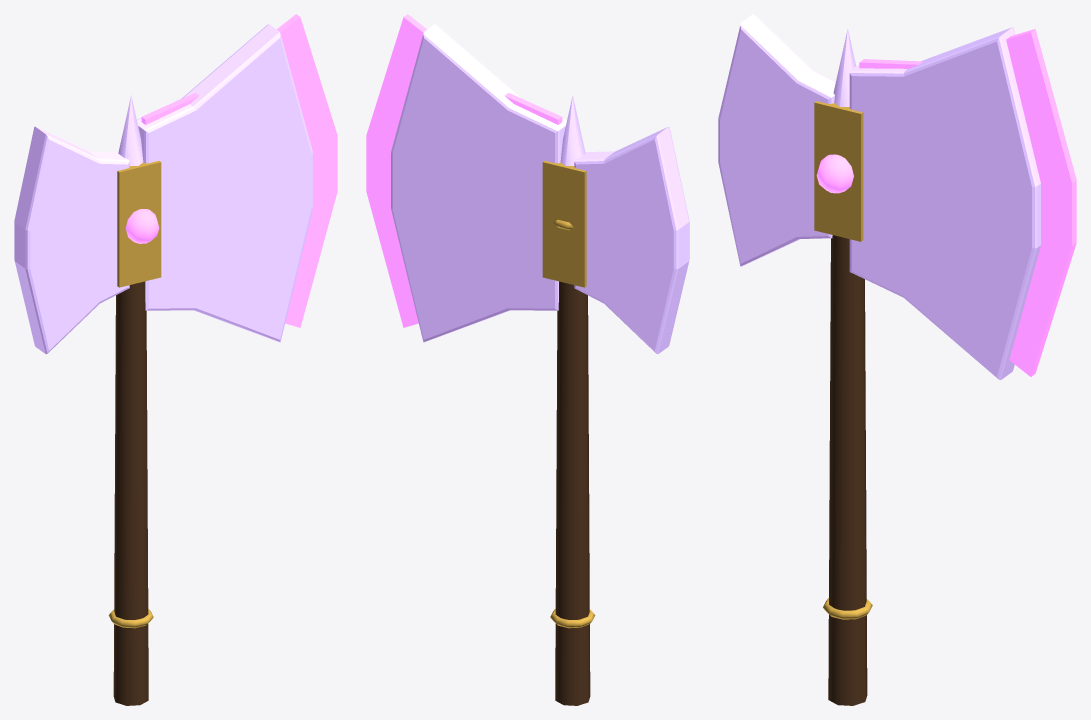
Rendered from axe_f0_fa1f6d9a.glb.
3 renders of one model, left to right at view 1: azimuth 30°, elevation 25°; view 2: azimuth 150°, elevation 25°; view 3: azimuth 330°, elevation 25°, orthographic. The views are drawn at different scales.
Parts seen in each view (by area): view 1: m4_ow80_, m0_ow80_, m1_, m3_ow80_, m2_gm160_; view 2: m4_ow80_, m0_ow80_, m1_, m3_ow80_; view 3: m4_ow80_, m0_ow80_, m1_, m3_ow80_, m2_gm160_.
Part boxes in pixels (left/top/right/bottom): m4_ow80_: left=14, top=24, right=312, bottom=353; m0_ow80_: left=113, top=281, right=148, bottom=705; m1_: left=141, top=14, right=337, bottom=327; m3_ow80_: left=108, top=160, right=161, bottom=628; m2_gm160_: left=125, top=209, right=159, bottom=243; m4_ow80_: left=391, top=24, right=689, bottom=353; m0_ow80_: left=555, top=281, right=590, bottom=705; m1_: left=366, top=14, right=562, bottom=327; m3_ow80_: left=542, top=160, right=595, bottom=628; m4_ow80_: left=718, top=14, right=1040, bottom=379; m0_ow80_: left=828, top=235, right=867, bottom=705; m1_: left=859, top=29, right=1076, bottom=376; m3_ow80_: left=814, top=101, right=872, bottom=619; m2_gm160_: left=816, top=154, right=853, bottom=193.
Bounding box in the file's own units: 1.2 × 2.34 × 0.2013.
